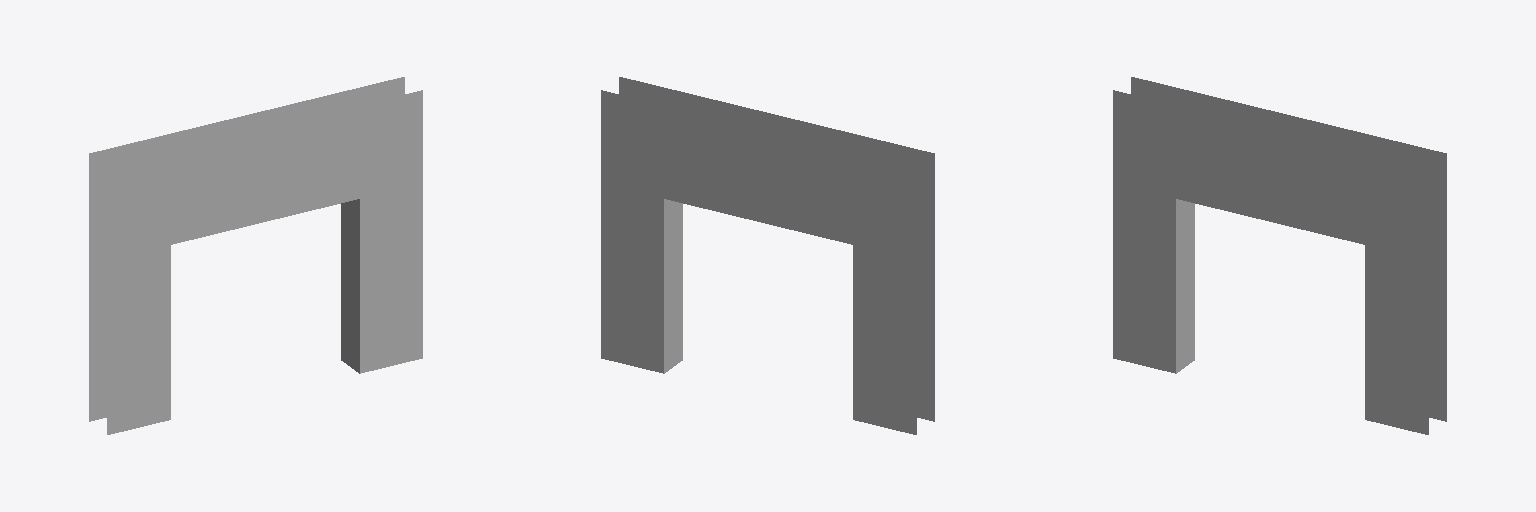
File: maintanencedoor.obj
The picture shows the model from 3 angles: view 1: azimuth 30°, elevation 25°; view 2: azimuth 150°, elevation 25°; view 3: azimuth 330°, elevation 25°; orthographic projection.
Parts seen in each view (by area): view 1: maintanencedoor; view 2: maintanencedoor; view 3: maintanencedoor.
Part boxes in pixels (x1,y1,x2,y2): maintanencedoor: (89, 77, 422, 434); maintanencedoor: (601, 77, 934, 434); maintanencedoor: (1113, 77, 1446, 434).
Size of the model in its own units: 4.99 by 4.05 by 0.505.